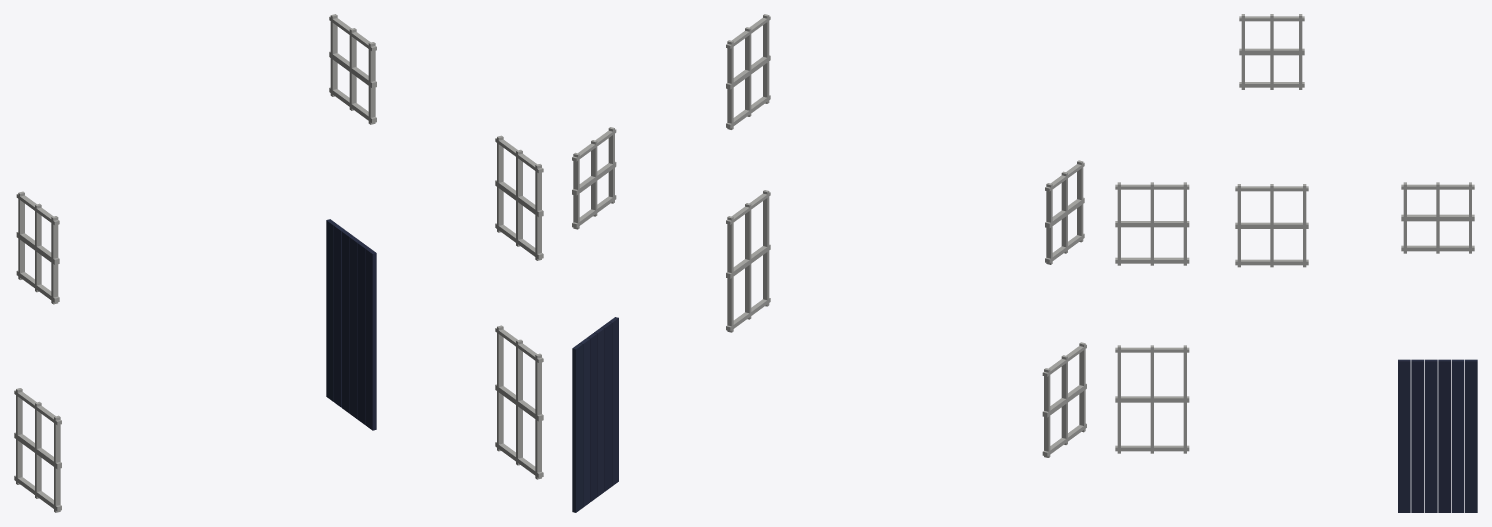
File: SM_Bld_241_Wood.glb
The picture shows the model from 3 angles, left to right: view 1: azimuth 30°, elevation 25°; view 2: azimuth 150°, elevation 25°; view 3: azimuth 270°, elevation 25°; orthographic projection. The views are drawn at different scales.
Visible parts, largest first — view 1: SM_Bld_241_Wood; view 2: SM_Bld_241_Wood; view 3: SM_Bld_241_Wood.
Boxes of the visible parts, x1,y1,x2,y2 form: SM_Bld_241_Wood: (14, 14, 543, 512); SM_Bld_241_Wood: (572, 14, 1086, 512); SM_Bld_241_Wood: (1115, 14, 1477, 512).
Size of the model in its own units: 5.06 by 4.45 by 4.44.
